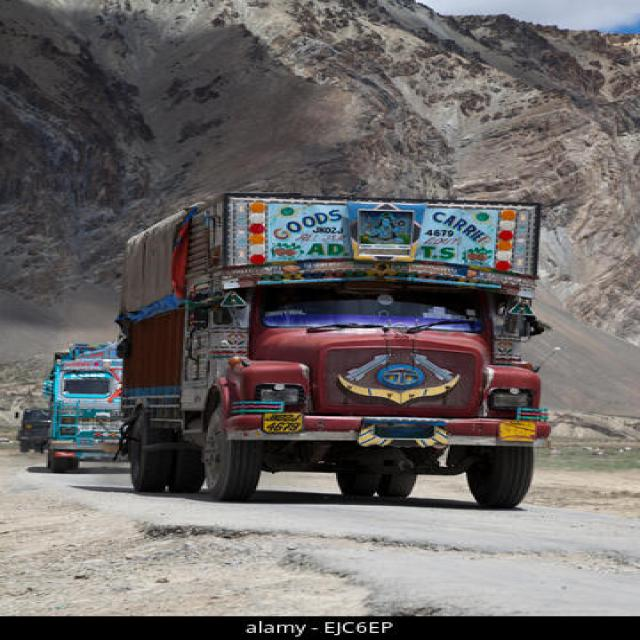normal_truck: (118, 194, 549, 508), (45, 342, 122, 472)
